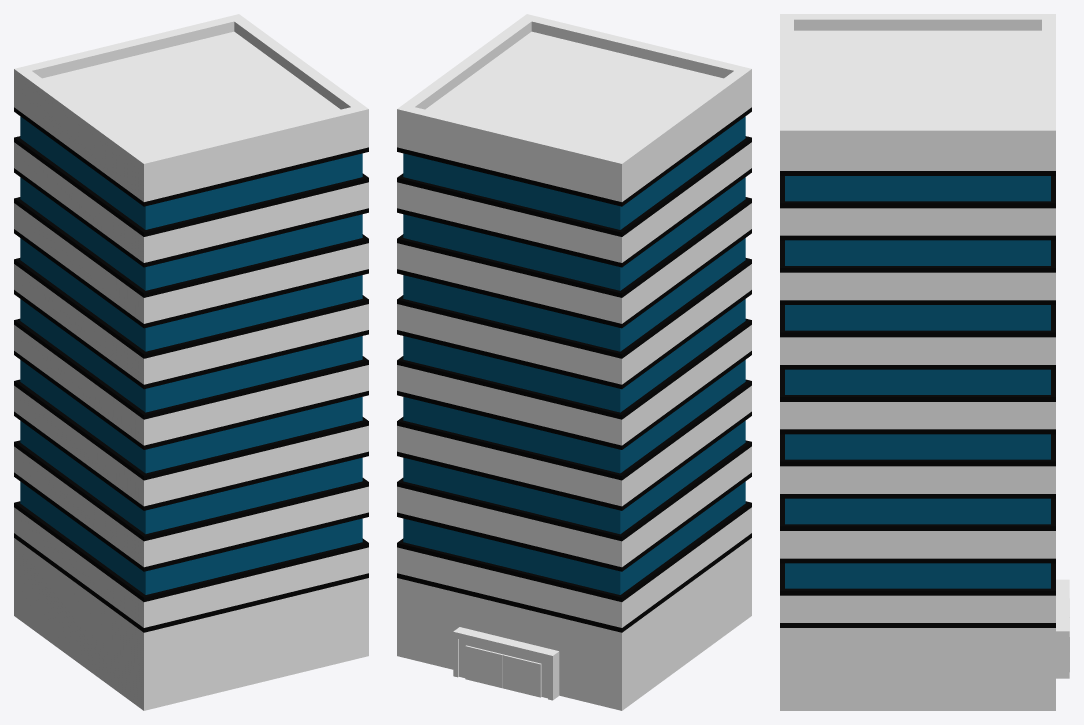
Rendered from Building_02.fbx.
3 views of the same model, side by side, from view 1: azimuth 30°, elevation 25°; view 2: azimuth 150°, elevation 25°; view 3: azimuth 270°, elevation 25° (orthographic). The views are drawn at different scales.
Parts seen in each view (by area): view 1: Cube.001; view 2: Cube.001; view 3: Cube.001.
Boxes of the visible parts, x1=… form: Cube.001: x1=14, y1=14, x2=368, y2=710; Cube.001: x1=397, y1=14, x2=751, y2=710; Cube.001: x1=780, y1=14, x2=1069, y2=710.
Bounding box in the file's own units: 2500 × 5808 × 2627.
